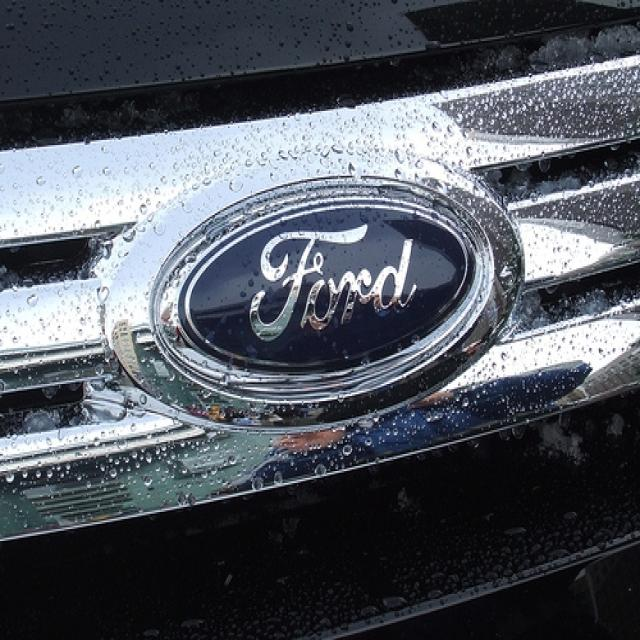ford: (147, 177, 495, 411)
